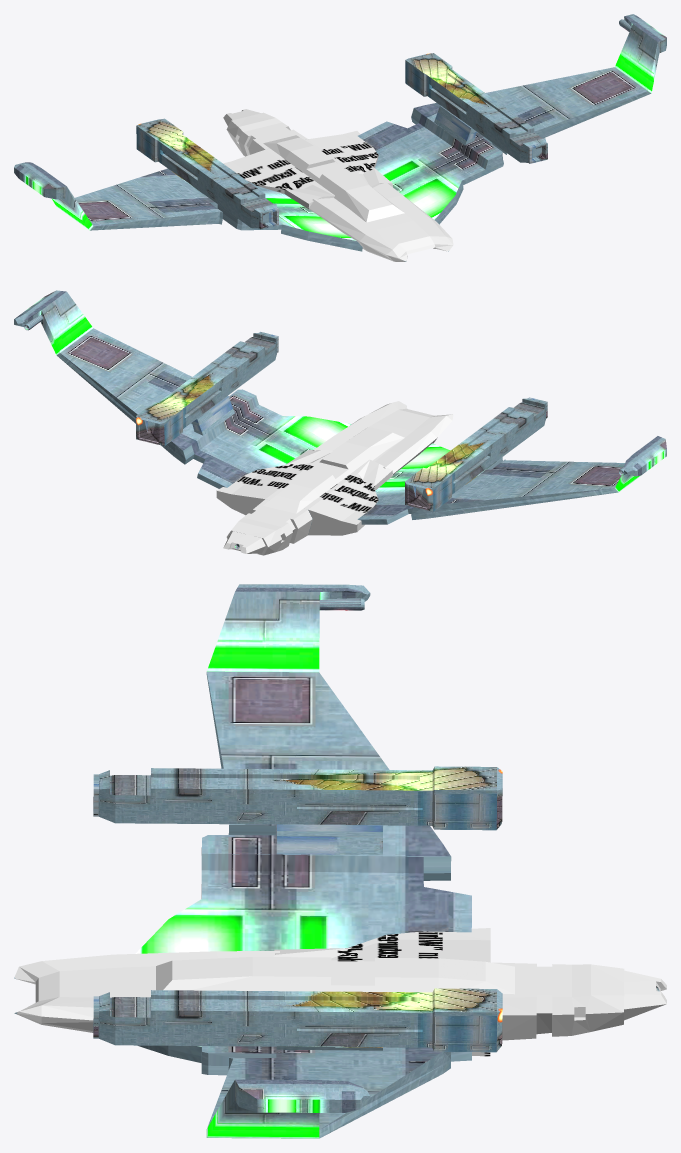
Rendered from Rom_V7Whitewind.fbx.
3 renders of one model, top to bottom at view 1: azimuth 30°, elevation 25°; view 2: azimuth 150°, elevation 25°; view 3: azimuth 270°, elevation 25°, orthographic. The views are drawn at different scales.
Visible parts, largest first — view 1: Rom_V7Whitewind; view 2: Rom_V7Whitewind; view 3: Rom_V7Whitewind.
Part boxes in pixels (x1=…): Rom_V7Whitewind: x1=14, y1=14, x2=666, y2=261; Rom_V7Whitewind: x1=14, y1=290, x2=666, y2=555; Rom_V7Whitewind: x1=14, y1=584, x2=666, y2=1138.
Size of the model in its own units: 254 by 44.52 by 136.
1 material, 1 textured.
